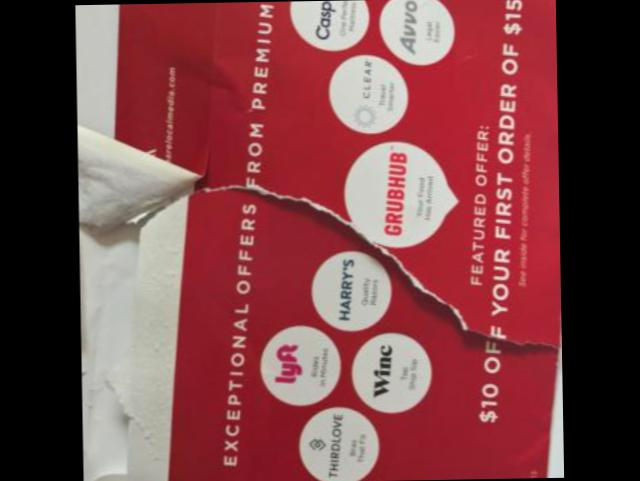cardboard paper: (78, 0, 562, 481)
